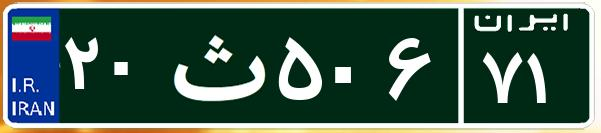0: (330, 28, 385, 110), (110, 28, 158, 105)
1: (525, 38, 570, 115)
2: (57, 26, 110, 107)
5: (273, 28, 330, 110)
6: (385, 28, 445, 110)
7: (475, 38, 525, 113)
ث: (158, 15, 273, 115)
